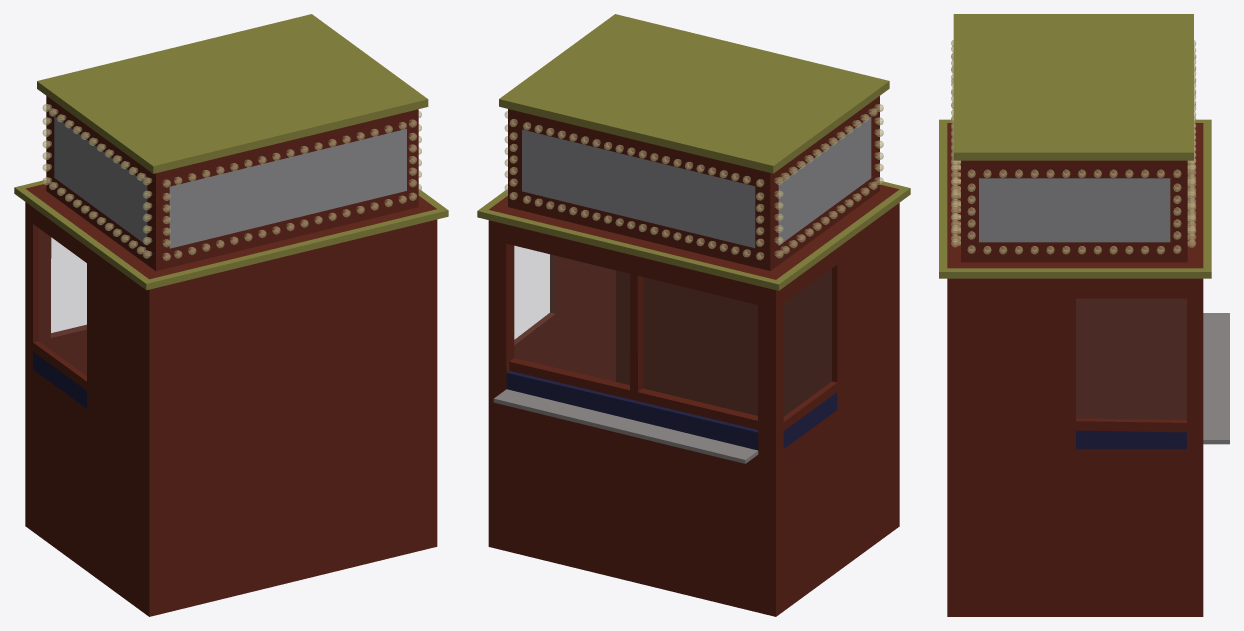
Rendered from TicketBooth_Proxy.fbx.
3 renders of one model, left to right at view 1: azimuth 30°, elevation 25°; view 2: azimuth 150°, elevation 25°; view 3: azimuth 270°, elevation 25°, orthographic. The views are drawn at different scales.
Parts seen in each view (by area): view 1: TicketBooth, Sign; view 2: TicketBooth, Sign; view 3: TicketBooth, Sign.
Part boxes in pixels (x1,y1,x2,y2): TicketBooth: (14,180,448,616); Sign: (37,14,428,270); TicketBooth: (477,181,910,616); Sign: (499,14,889,270); TicketBooth: (939,119,1229,616); Sign: (953,14,1193,262).
Size of the model in its own units: 210 by 297 by 170.
